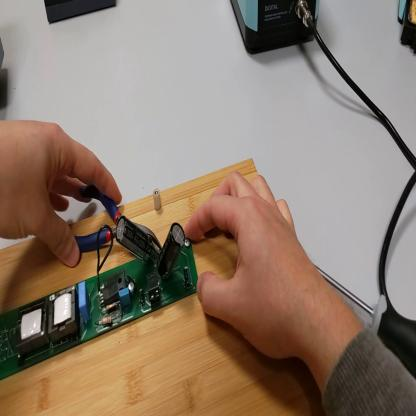hand: (186, 169, 312, 360), (2, 116, 122, 269)
high voltage board: (2, 222, 198, 379)
pliers: (71, 193, 163, 258)
screwdriver-: (307, 254, 416, 376)
welder base: (397, 2, 416, 58)
welder station: (230, 2, 320, 57)
working area: (3, 163, 325, 416)
